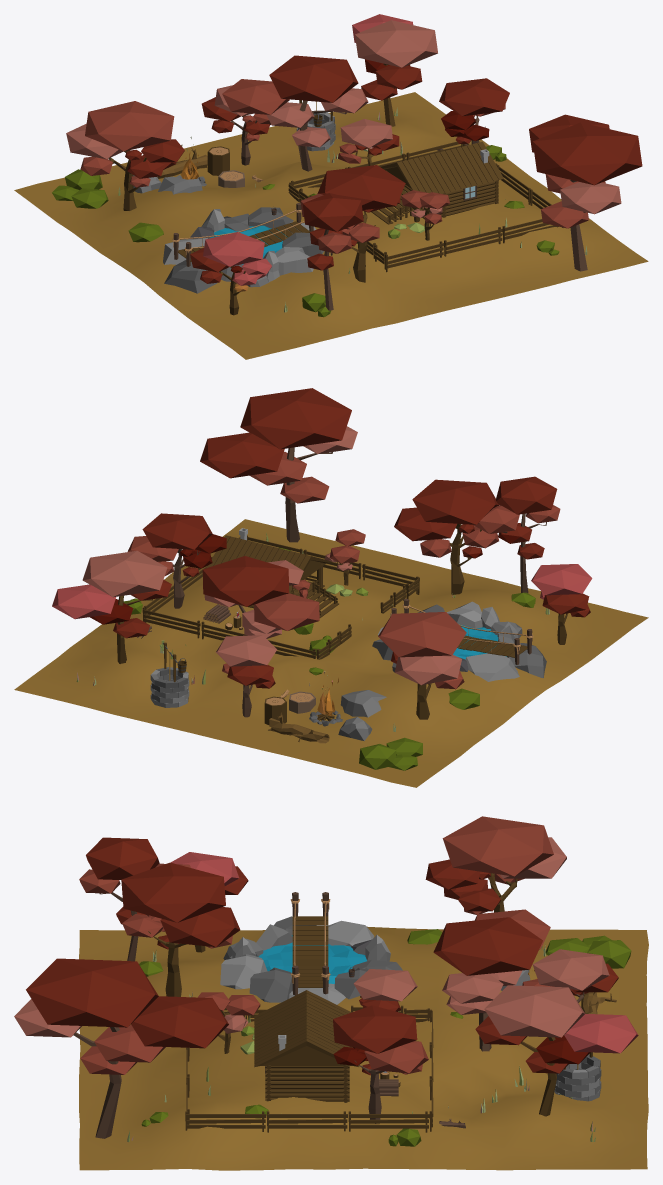
Rendered from Forest_20x20.gltf.
3 views of the same model, one above another, from view 1: azimuth 30°, elevation 25°; view 2: azimuth 150°, elevation 25°; view 3: azimuth 270°, elevation 25° (orthographic). The views are drawn at different scales.
Parts seen in each view (by area): view 1: Cylinder.005_Cylinder.062, Cylinder.005_Cylinder.000; view 2: Cylinder.005_Cylinder.062, Cylinder.005_Cylinder.000; view 3: Cylinder.005_Cylinder.062, Cylinder.005_Cylinder.000.
Boxes of the visible parts, left/top/right/bottom form: Cylinder.005_Cylinder.062: left=52, top=14, right=642, bottom=317; Cylinder.005_Cylinder.000: left=14, top=92, right=648, bottom=359; Cylinder.005_Cylinder.062: left=52, top=388, right=592, bottom=770; Cylinder.005_Cylinder.000: left=14, top=519, right=648, bottom=787; Cylinder.005_Cylinder.062: left=14, top=816, right=638, bottom=1146; Cylinder.005_Cylinder.000: left=79, top=926, right=648, bottom=1170.
Bounding box in the file's own units: 40.11 × 14.95 × 44.68.
Materials: 2 (1 with a texture image).
